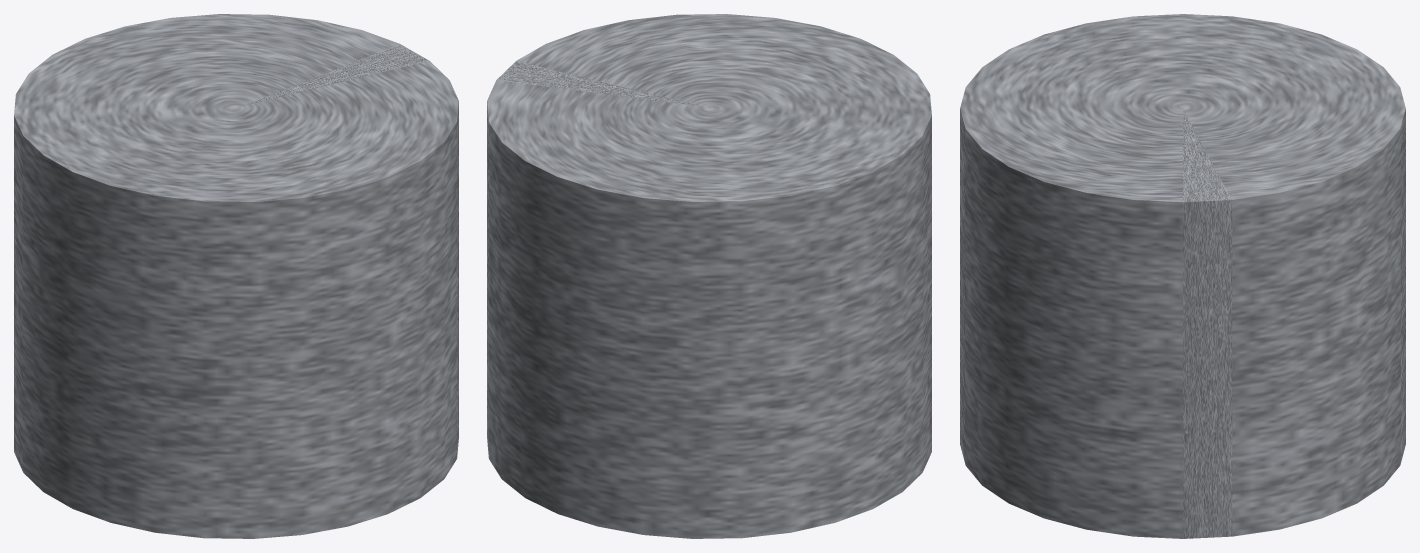
Rendered from spacer_long.obj.
3 views of the same model, side by side, from view 1: azimuth 30°, elevation 25°; view 2: azimuth 150°, elevation 25°; view 3: azimuth 270°, elevation 25° (orthographic).
Bounding box in the file's own units: 0.06 × 0.05 × 0.06.
Materials: 1 (1 with a texture image).
